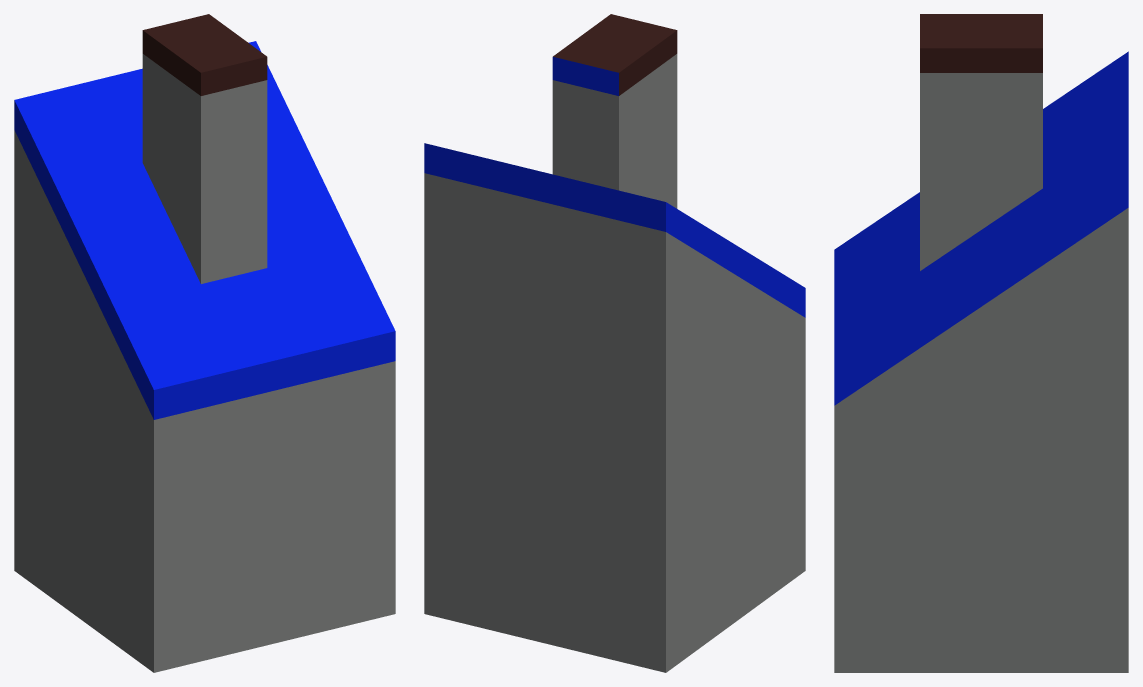
Rendered from Factory Model.fbx.
3 renders of one model, left to right at view 1: azimuth 30°, elevation 25°; view 2: azimuth 150°, elevation 25°; view 3: azimuth 270°, elevation 25°, orthographic. The views are drawn at different scales.
Parts seen in each view (by area): view 1: Cube.003; view 2: Cube.003; view 3: Cube.003.
Part boxes in pixels (x1,y1,x2,y2): Cube.003: (14,14,395,672); Cube.003: (424,14,805,672); Cube.003: (834,14,1128,672).
Size of the model in its own units: 251 by 545 by 251.
